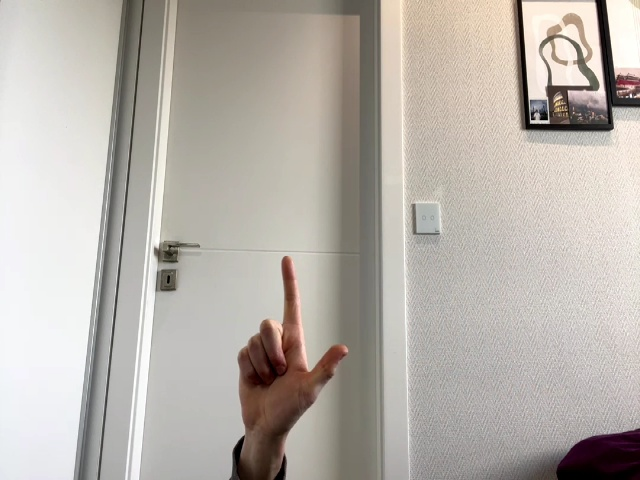L: (238, 257, 348, 462)
